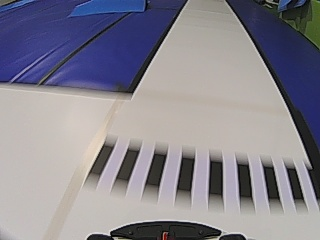CrossWalk: (93, 145, 312, 203)
